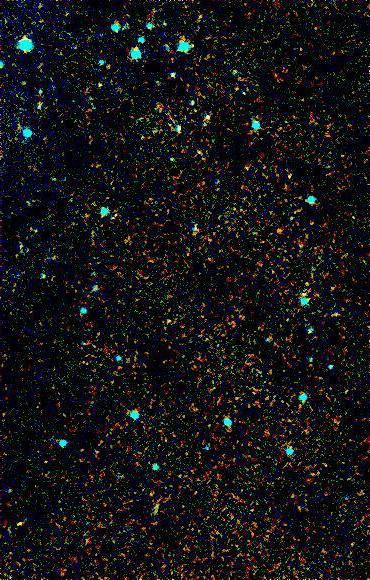star: (265, 215, 295, 245)
